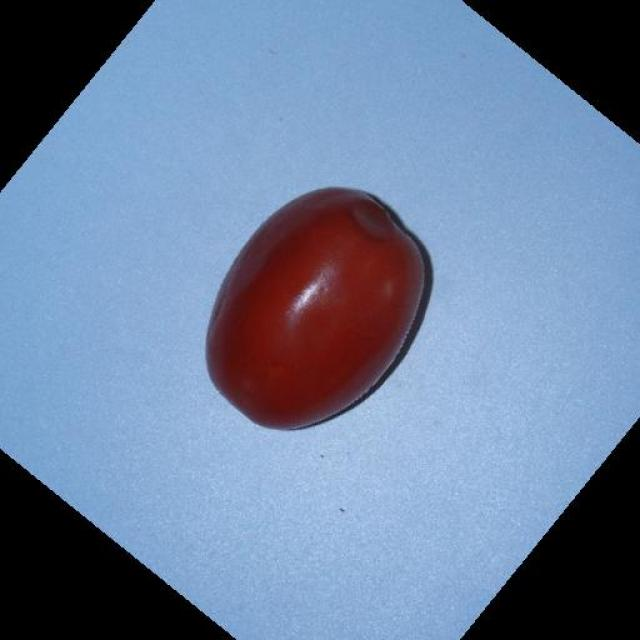Stale_tomato: (204, 182, 440, 462)
